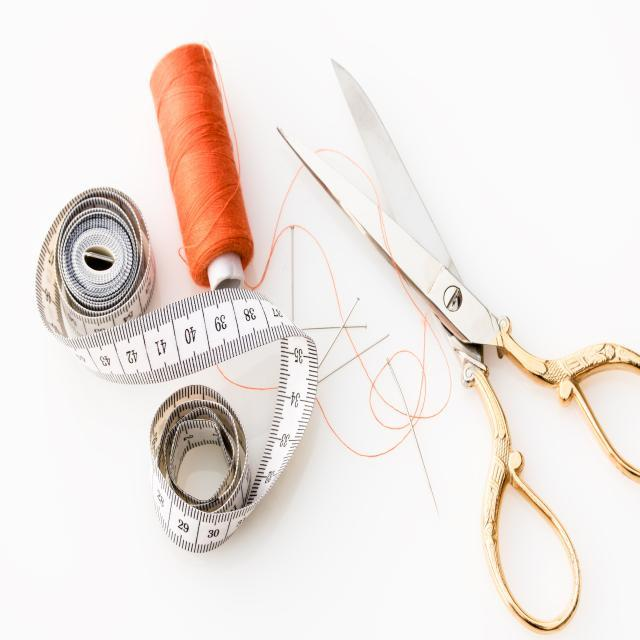tesoura: (265, 45, 640, 634)
